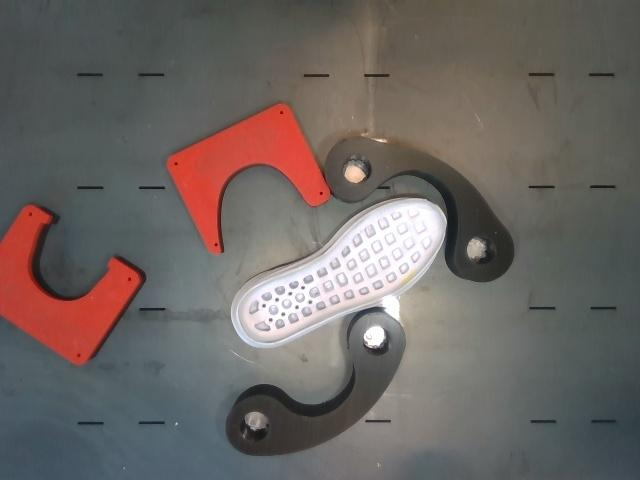shoes: (238, 200, 446, 344)
